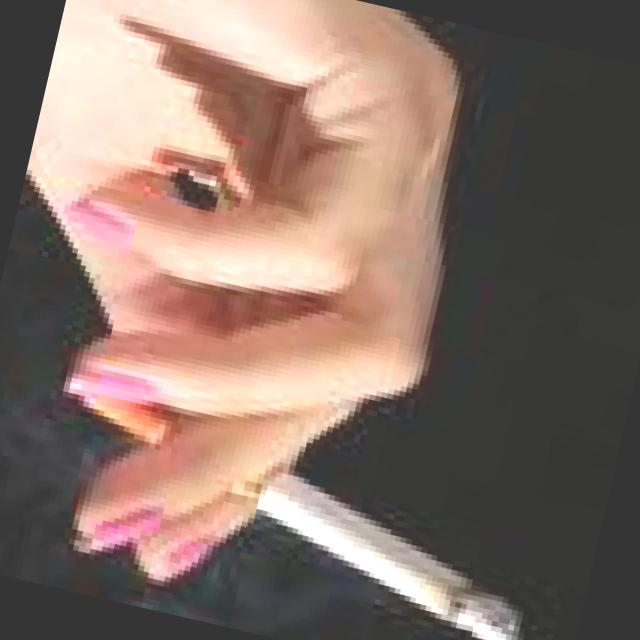cigarette: (235, 465, 541, 640)
